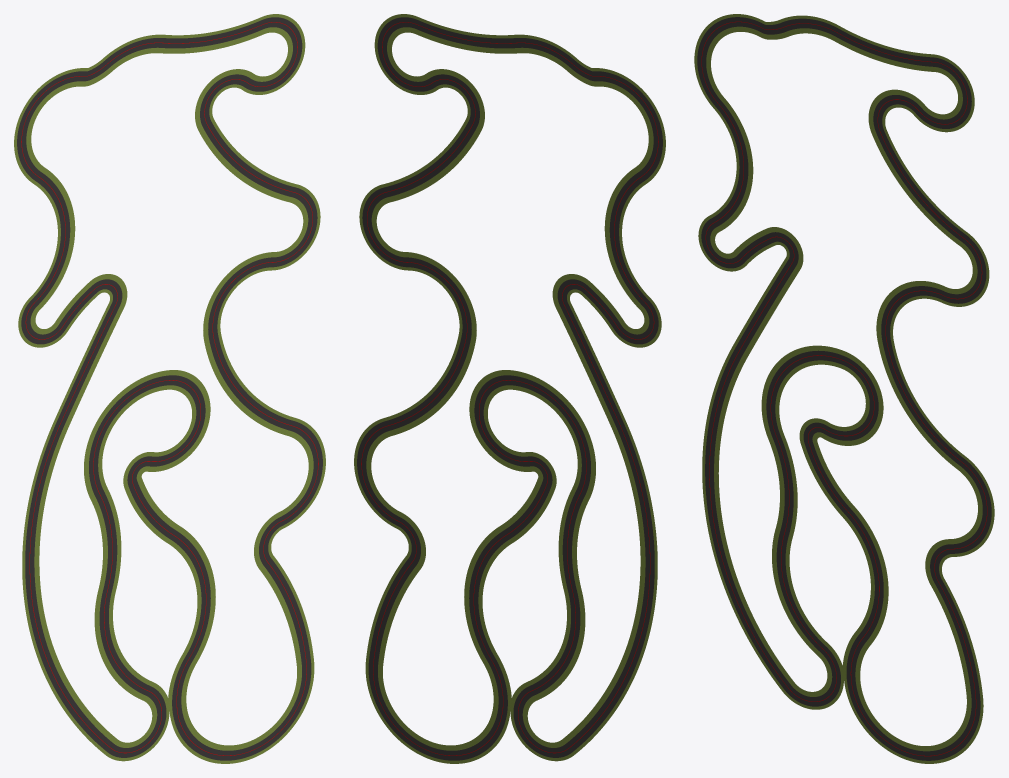
File: circuit_curve.obj
3 views of the same model, side by side, from view 1: azimuth 30°, elevation 25°; view 2: azimuth 150°, elevation 25°; view 3: azimuth 330°, elevation 25° (orthographic). The views are drawn at different scales.
Parts seen in each view (by area): view 1: SketchUp_003_ID32, SketchUp_001_ID16, SketchUp_ID3, SketchUp_004_ID45, SketchUp_002_ID24; view 2: SketchUp_003_ID32, SketchUp_001_ID16, SketchUp_ID3, SketchUp_004_ID45, SketchUp_002_ID24; view 3: SketchUp_003_ID32, SketchUp_001_ID16, SketchUp_ID3, SketchUp_004_ID45, SketchUp_002_ID24.
Part boxes in pixels (x1,y1,x2,y2): SketchUp_003_ID32: (26, 27, 313, 750); SketchUp_001_ID16: (17, 17, 322, 760); SketchUp_ID3: (22, 22, 317, 755); SketchUp_004_ID45: (14, 14, 325, 763); SketchUp_002_ID24: (21, 22, 318, 755); SketchUp_003_ID32: (366, 27, 653, 750); SketchUp_001_ID16: (357, 17, 662, 760); SketchUp_ID3: (362, 22, 657, 755); SketchUp_004_ID45: (354, 14, 665, 763); SketchUp_002_ID24: (361, 22, 658, 755); SketchUp_003_ID32: (706, 26, 982, 751); SketchUp_001_ID16: (697, 17, 991, 760); SketchUp_ID3: (702, 22, 986, 755); SketchUp_004_ID45: (694, 14, 994, 763); SketchUp_002_ID24: (701, 21, 987, 756).
Bounding box in the file's own units: 80.78 × 185 × 0.
4 materials, 2 textured.
